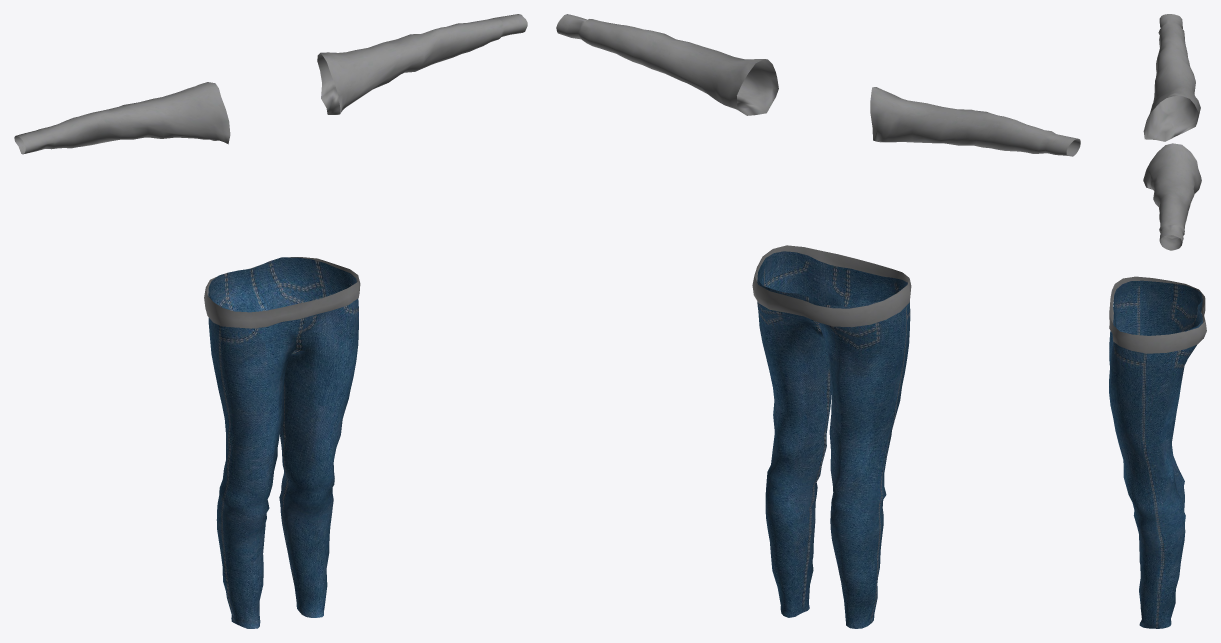
The model's file is Arm.fbx.
3 views of the same model, side by side, from view 1: azimuth 30°, elevation 25°; view 2: azimuth 150°, elevation 25°; view 3: azimuth 270°, elevation 25° (orthographic). The views are drawn at different scales.
Visible parts, largest first — view 1: avaturn_look_0, avaturn_look_0.002; view 2: avaturn_look_0, avaturn_look_0.002; view 3: avaturn_look_0, avaturn_look_0.002.
Part boxes in pixels (x1,y1,x2,y2): avaturn_look_0: (14, 14, 527, 628); avaturn_look_0.002: (36, 82, 230, 149); avaturn_look_0: (556, 14, 1080, 628); avaturn_look_0.002: (870, 87, 1056, 153); avaturn_look_0: (1109, 14, 1206, 628); avaturn_look_0.002: (1143, 22, 1200, 141).
Bounding box in the file's own units: 140 × 144 × 26.02.
1 material, 1 textured.
